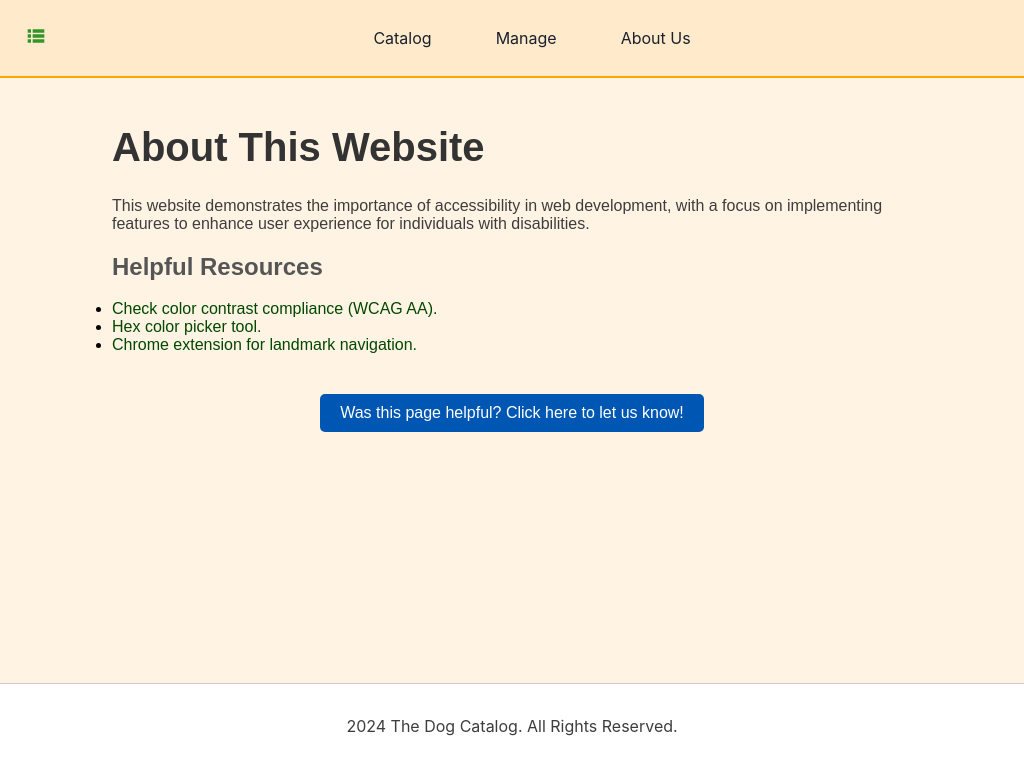
Scenario: About Page › should open the alert modal when button is clicked
The image size is (1024, 768).
# Click the button to open the alert modal
Click the button with class "custom-button": click(512, 413) [320,394,704,432]
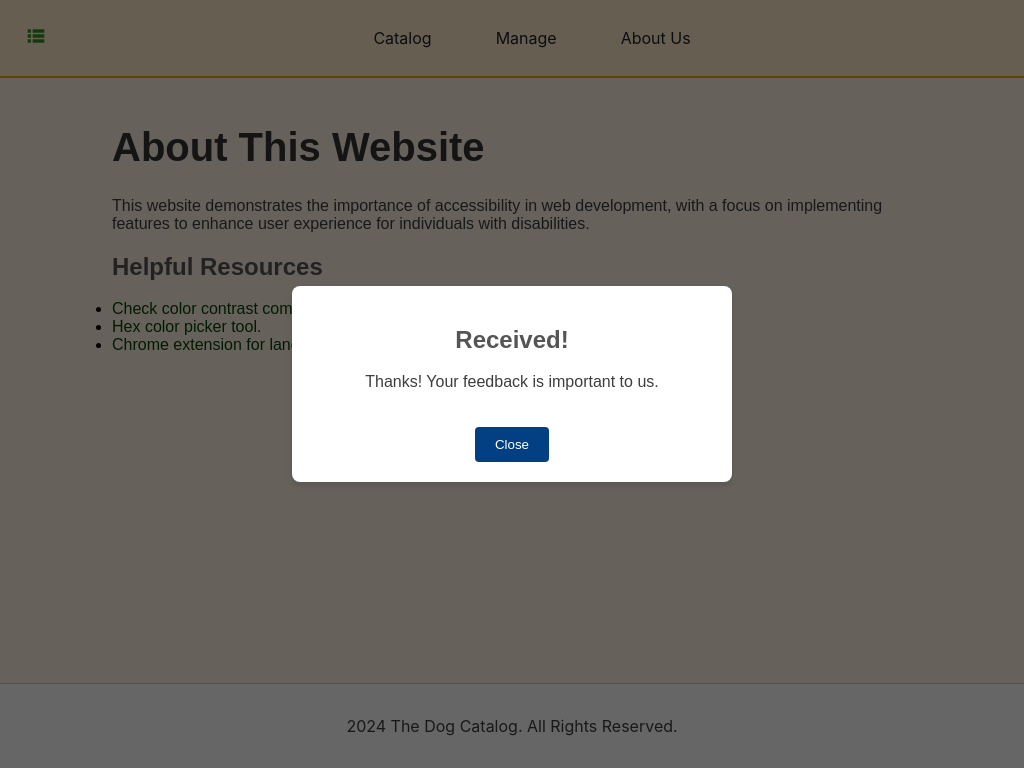
Check: the dialog with class "modal-overlay" is shown
Check: the heading "Received!" is shown, box [455,326,569,352]
Check: the text "Thanks! Your feedback is important to us." is shown, box [365,373,659,390]
# Close the alert modal
Click the button "Close": click(512, 445) [475,427,549,462]
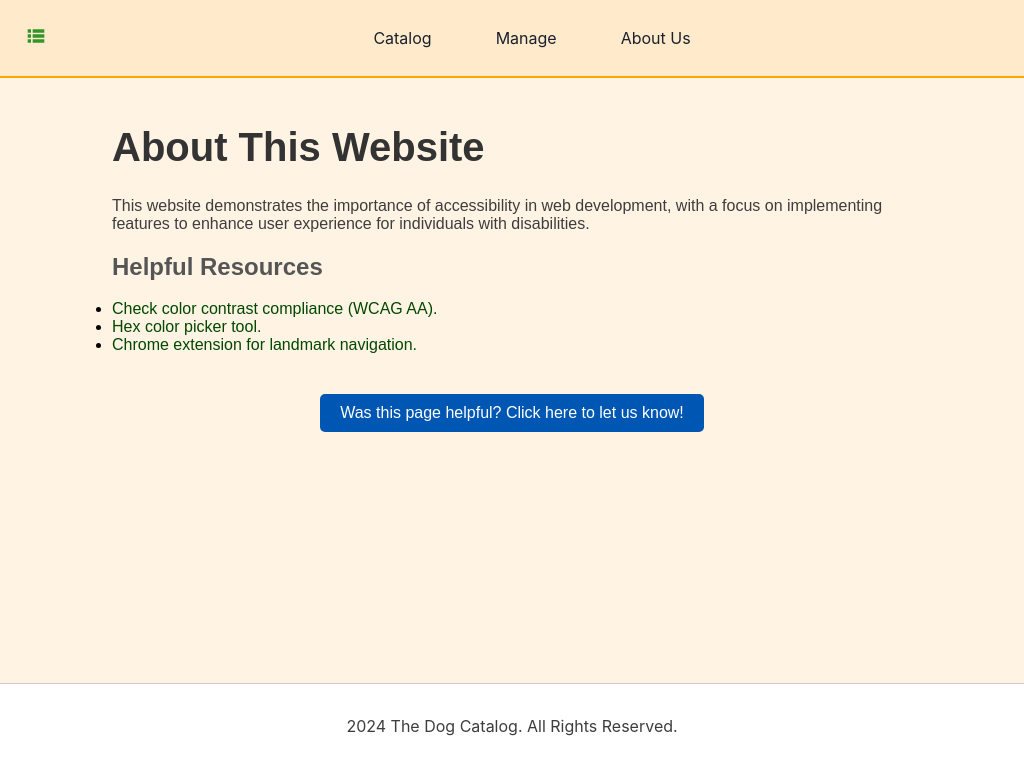
Check: the dialog with class "modal-overlay" is gone
